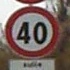limite 40: (3, 4, 59, 58)
